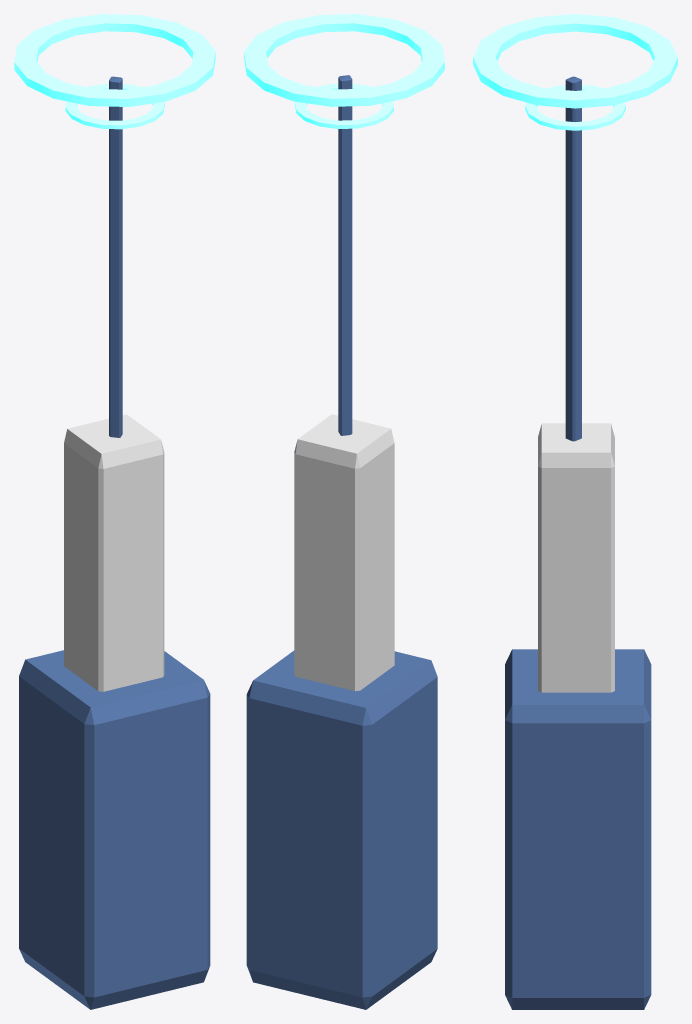
The model's file is gamba_singola_exp.fbx.
3 renders of one model, left to right at view 1: azimuth 30°, elevation 25°; view 2: azimuth 150°, elevation 25°; view 3: azimuth 270°, elevation 25°, orthographic.
Parts seen in each view (by area): view 1: Gambe_base_01.001, Gambe_base_02.001, Dischetto_grande_01.001, Gambe_base_03.001, Dischetto_piccolo_01.001; view 2: Gambe_base_01.001, Gambe_base_02.001, Dischetto_grande_01.001, Gambe_base_03.001, Dischetto_piccolo_01.001; view 3: Gambe_base_01.001, Gambe_base_02.001, Dischetto_grande_01.001, Gambe_base_03.001, Dischetto_piccolo_01.001.
Part boxes in pixels (<box>): Gambe_base_01.001: <box>19,650,210,1009</box>; Gambe_base_02.001: <box>64,414,164,691</box>; Dischetto_grande_01.001: <box>14,14,215,106</box>; Gambe_base_03.001: <box>109,76,122,437</box>; Dischetto_piccolo_01.001: <box>65,83,164,129</box>; Gambe_base_01.001: <box>246,650,437,1009</box>; Gambe_base_02.001: <box>294,414,394,691</box>; Dischetto_grande_01.001: <box>244,14,444,106</box>; Gambe_base_03.001: <box>338,75,352,435</box>; Dischetto_piccolo_01.001: <box>295,83,393,128</box>; Gambe_base_01.001: <box>505,649,651,1009</box>; Gambe_base_02.001: <box>538,423,614,692</box>; Dischetto_grande_01.001: <box>473,14,677,108</box>; Gambe_base_03.001: <box>565,76,581,441</box>; Dischetto_piccolo_01.001: <box>525,85,625,130</box>.
Size of the model in its own units: 8.47 by 42.2 by 8.47.
